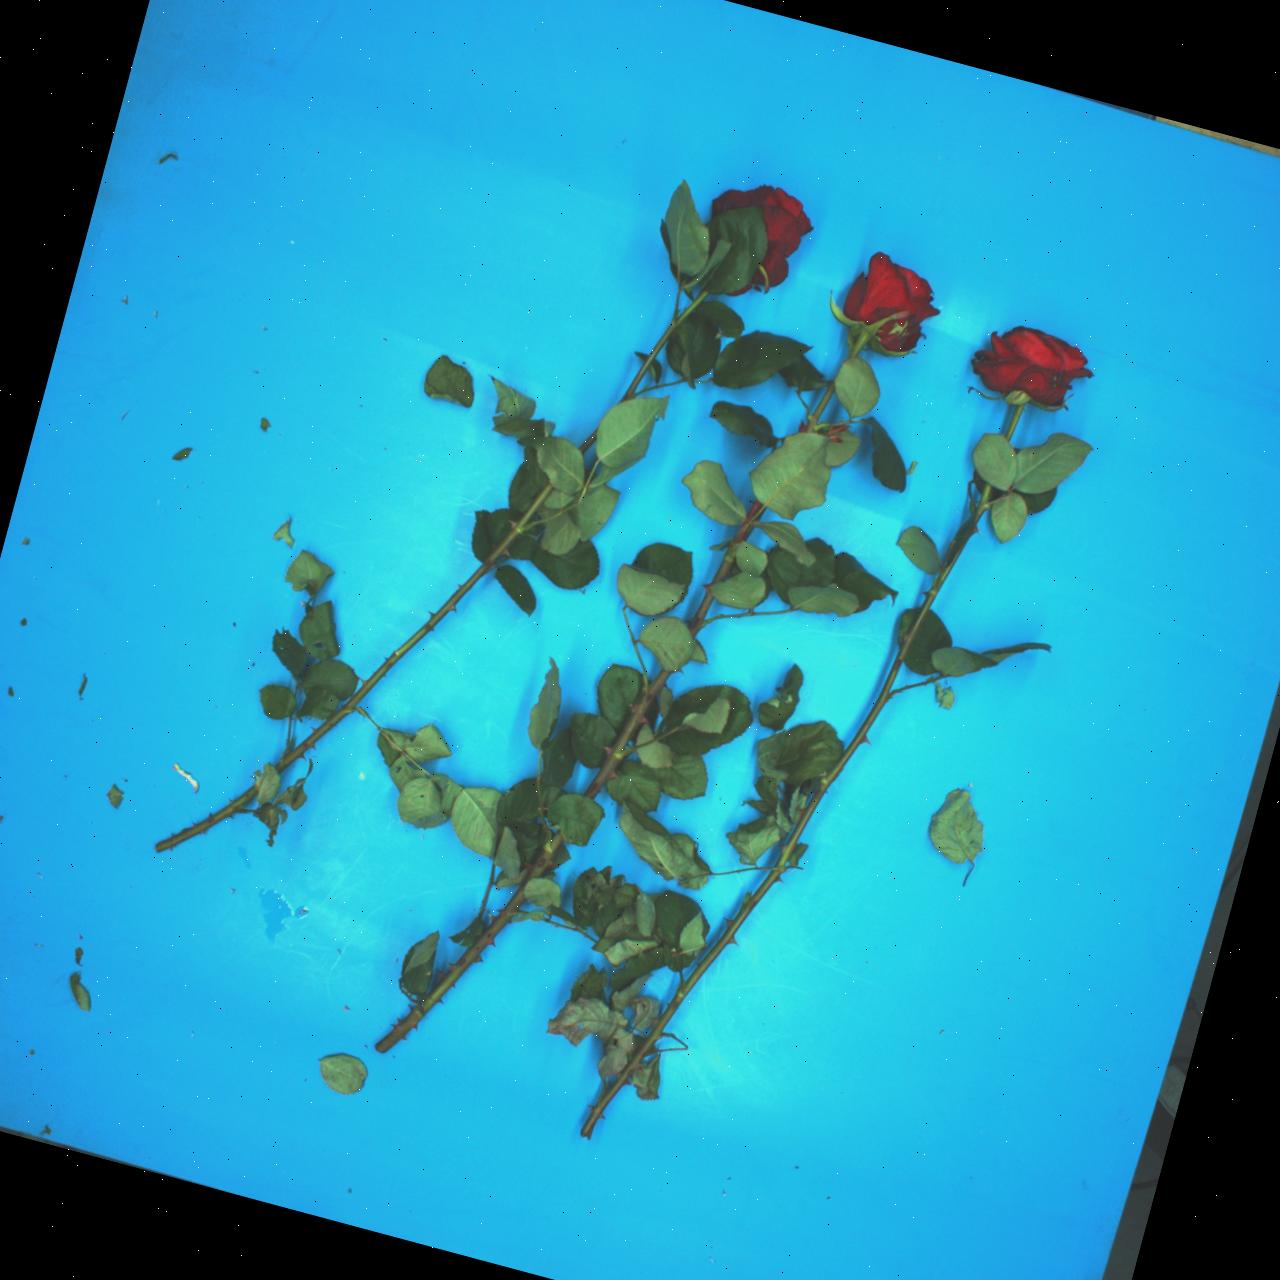Stem: (578, 536, 976, 1151), (272, 481, 561, 781), (372, 830, 574, 1060), (581, 667, 672, 802), (615, 286, 708, 407), (682, 520, 755, 638), (150, 785, 260, 855), (802, 379, 838, 435), (1001, 401, 1026, 442), (972, 482, 992, 525), (845, 331, 870, 362), (578, 427, 602, 454), (743, 501, 767, 526)
flower: (699, 157, 831, 291), (962, 308, 1099, 429), (829, 246, 949, 367)
